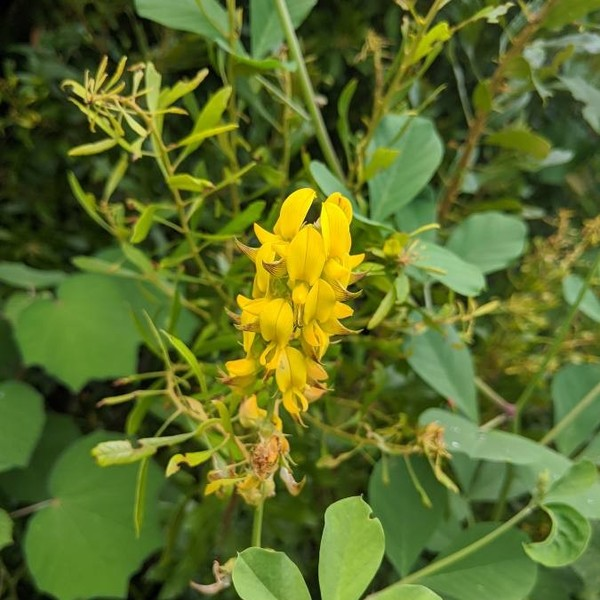obstacle: (84, 46, 576, 550)
